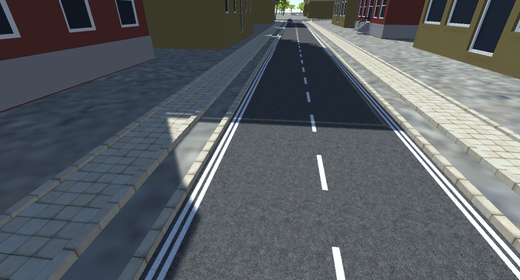centerstrip: (295, 27, 353, 280)
sidestripe: (142, 31, 280, 279), (358, 88, 520, 276)
